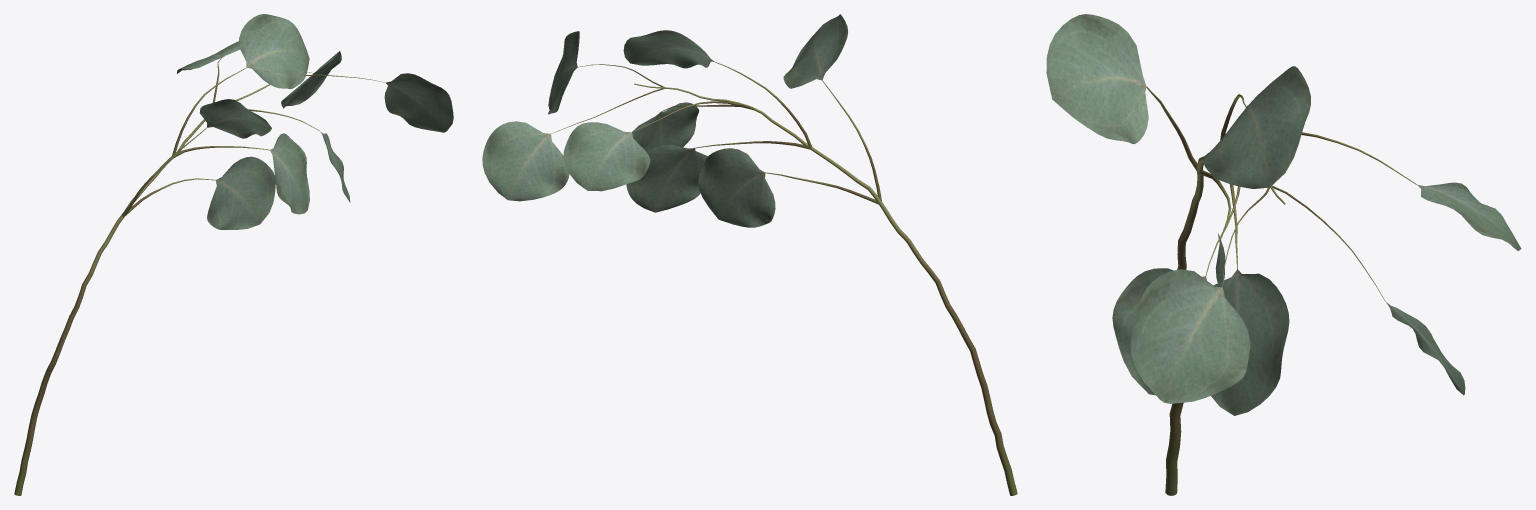
The model's file is eucalyptus-sprig.glb.
The picture shows the model from 3 angles, left to right: view 1: azimuth 30°, elevation 25°; view 2: azimuth 150°, elevation 25°; view 3: azimuth 270°, elevation 25°; orthographic projection. The views are drawn at different scales.
Parts seen in each view (by area): view 1: Object_19, Object_18; view 2: Object_19, Object_18; view 3: Object_19, Object_18.
Boxes of the visible parts, bbox=[...] form: Object_19: bbox=[177, 14, 453, 229]; Object_18: bbox=[14, 58, 385, 495]; Object_19: bbox=[482, 14, 847, 227]; Object_18: bbox=[551, 62, 1017, 495]; Object_19: bbox=[1046, 14, 1521, 415]; Object_18: bbox=[1146, 86, 1416, 495].
Bounding box in the file's own units: 1.17 × 1 × 0.6608.
Materials: 2 (2 with a texture image).
